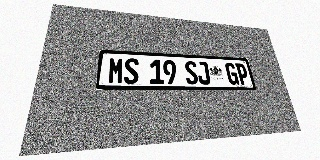1: (149, 59, 164, 84)
9: (163, 60, 177, 84)
G: (224, 63, 240, 85)
J: (196, 61, 211, 85)
M: (108, 57, 124, 84)
P: (235, 63, 250, 85)
S: (124, 58, 139, 84), (184, 61, 199, 84)
